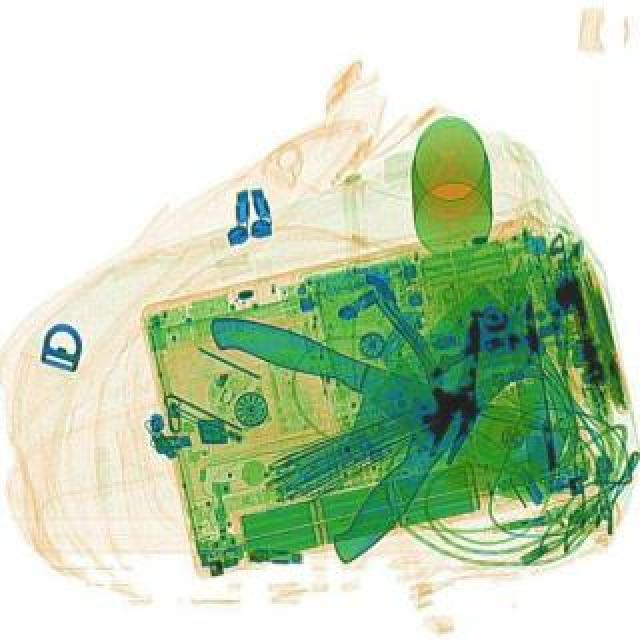knife: (274, 282, 554, 568), (182, 306, 574, 508)
